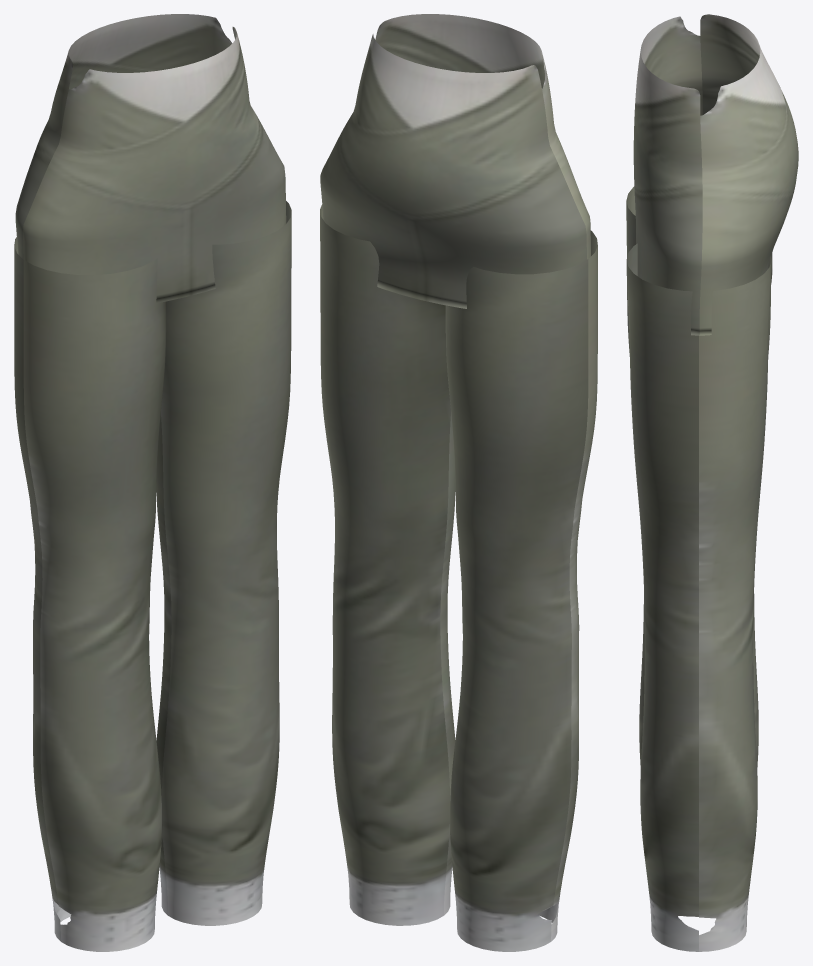
The model's file is prod-ae-sage-flare-leggings.glb.
3 views of the same model, side by side, from view 1: azimuth 30°, elevation 25°; view 2: azimuth 150°, elevation 25°; view 3: azimuth 270°, elevation 25° (orthographic). The views are drawn at different scales.
Visible parts, largest first — view 1: prod-ae-sage-flare-leggings; view 2: prod-ae-sage-flare-leggings; view 3: prod-ae-sage-flare-leggings.
Part boxes in pixels (<box>): prod-ae-sage-flare-leggings: <box>14,14,291,951</box>; prod-ae-sage-flare-leggings: <box>320,14,597,951</box>; prod-ae-sage-flare-leggings: <box>626,14,798,951</box>.
Bounding box in the file's own units: 0.282 × 0.9104 × 0.1668.
1 material, 1 textured.
